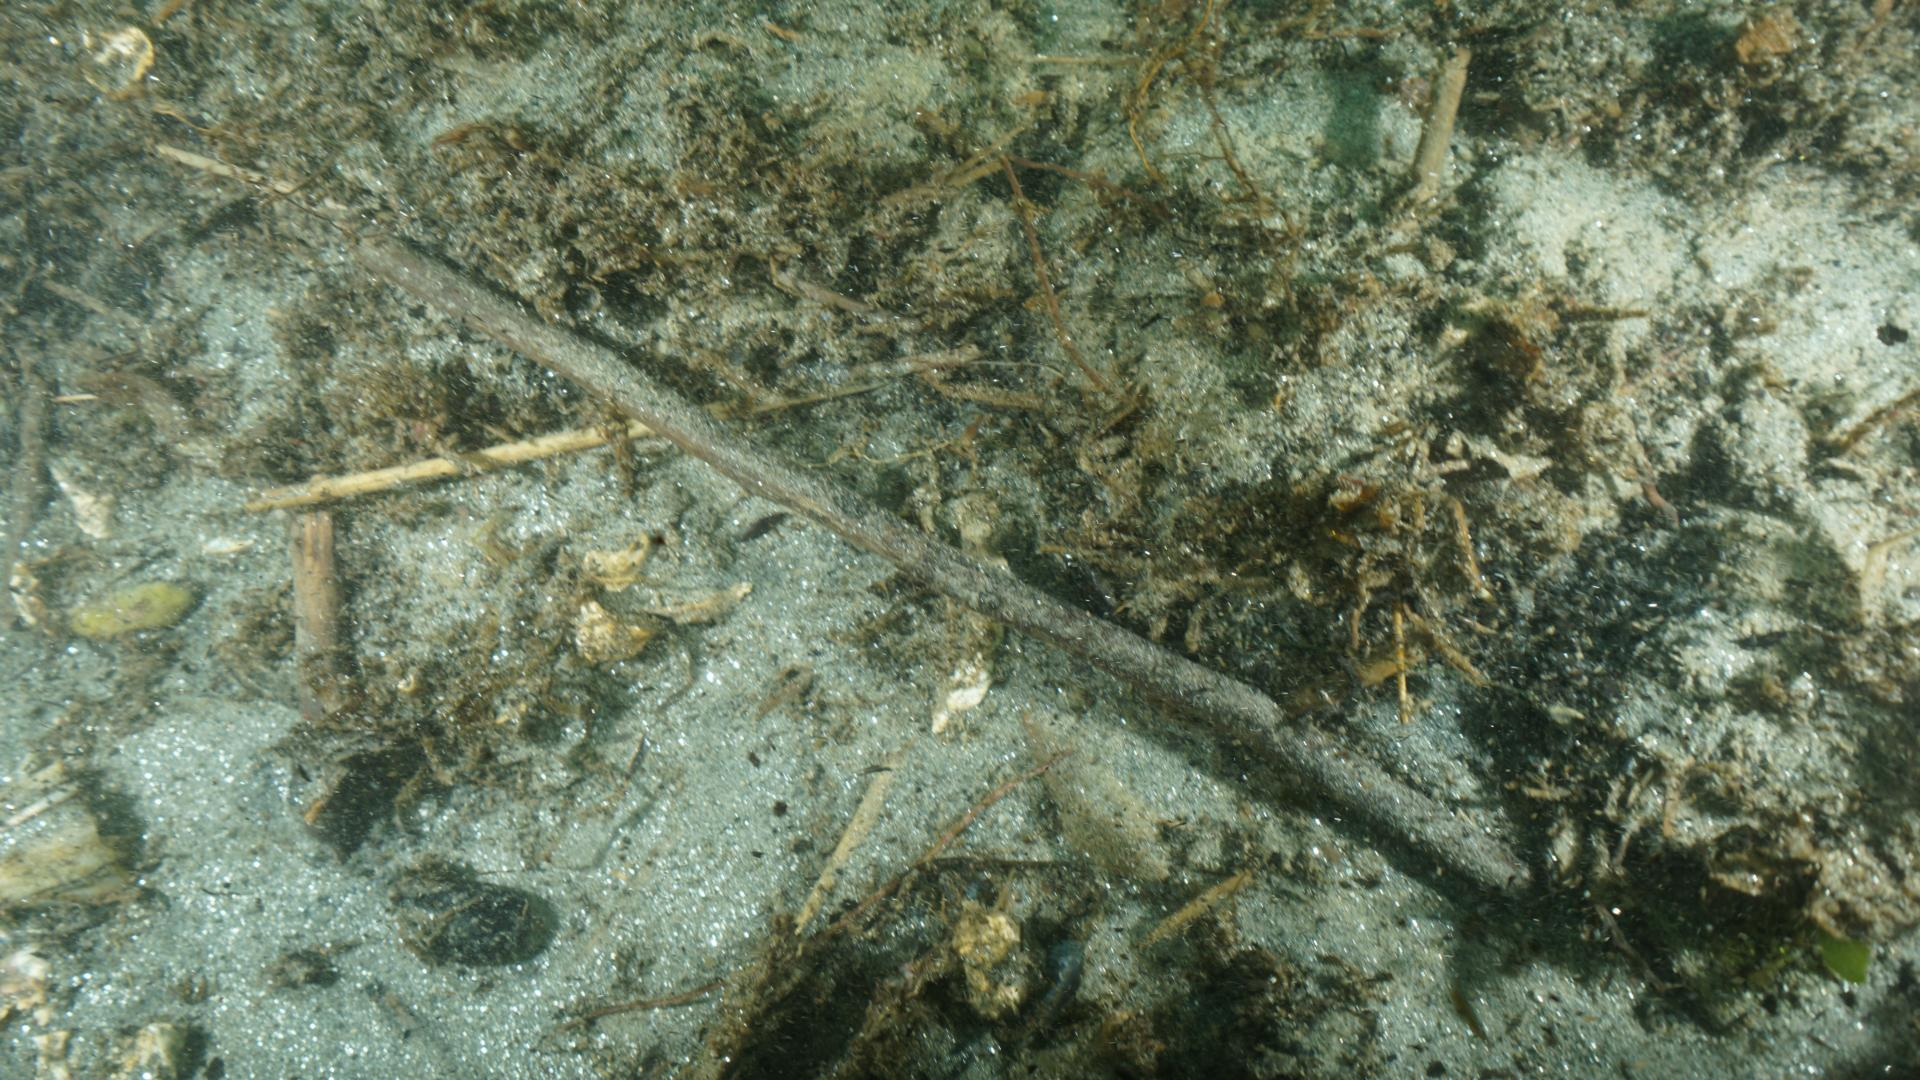wood: (148, 141, 1534, 902)
